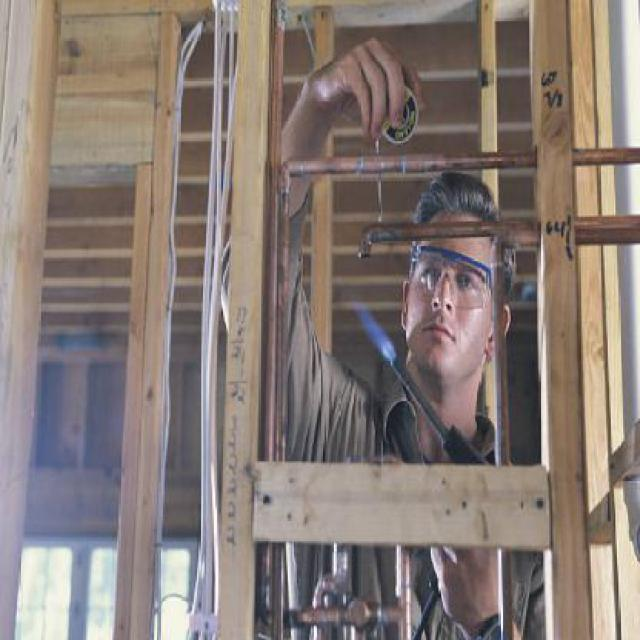glass: (403, 233, 495, 313)
head: (399, 164, 524, 392)
person: (231, 29, 548, 628)
